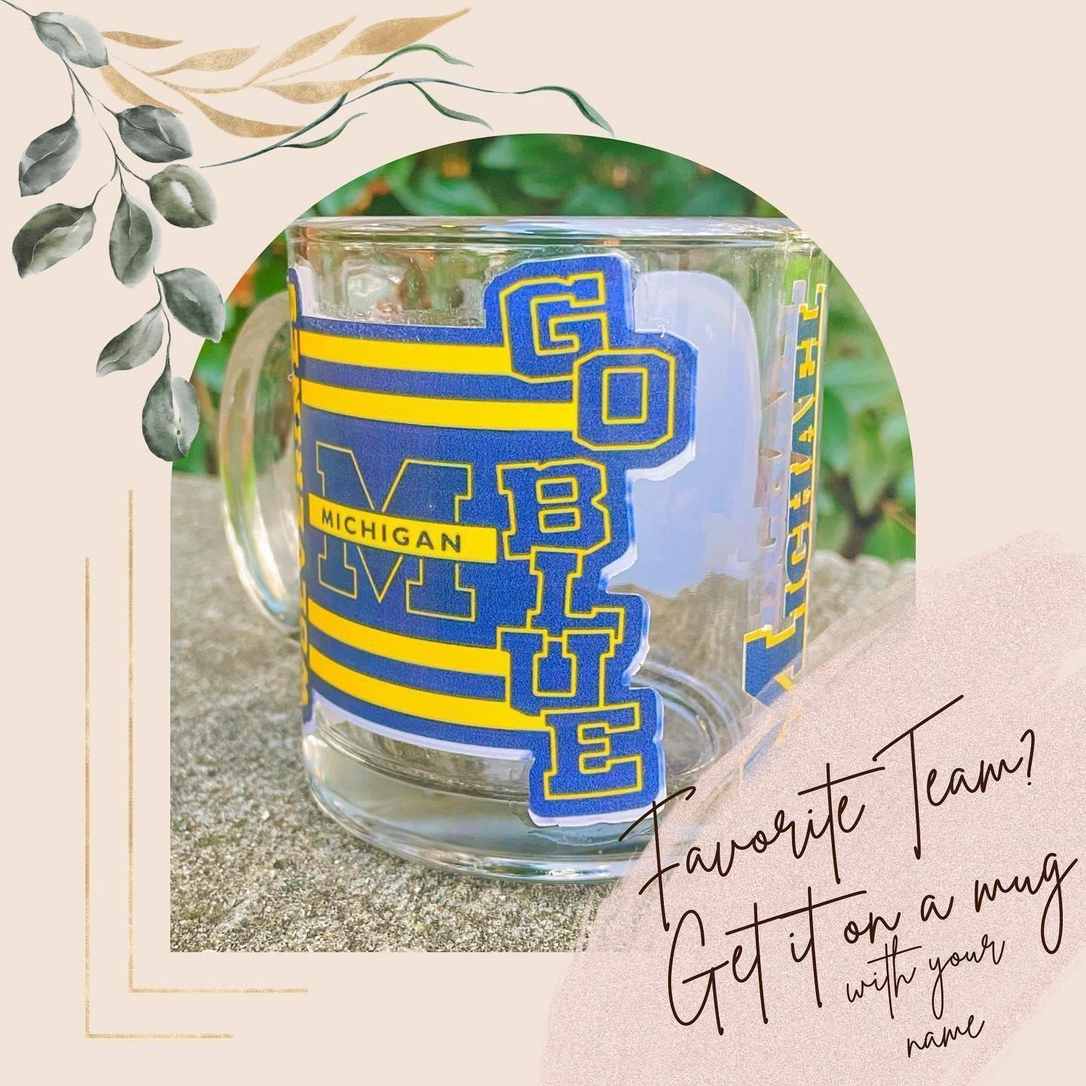glass-mug: (218, 198, 837, 888)
